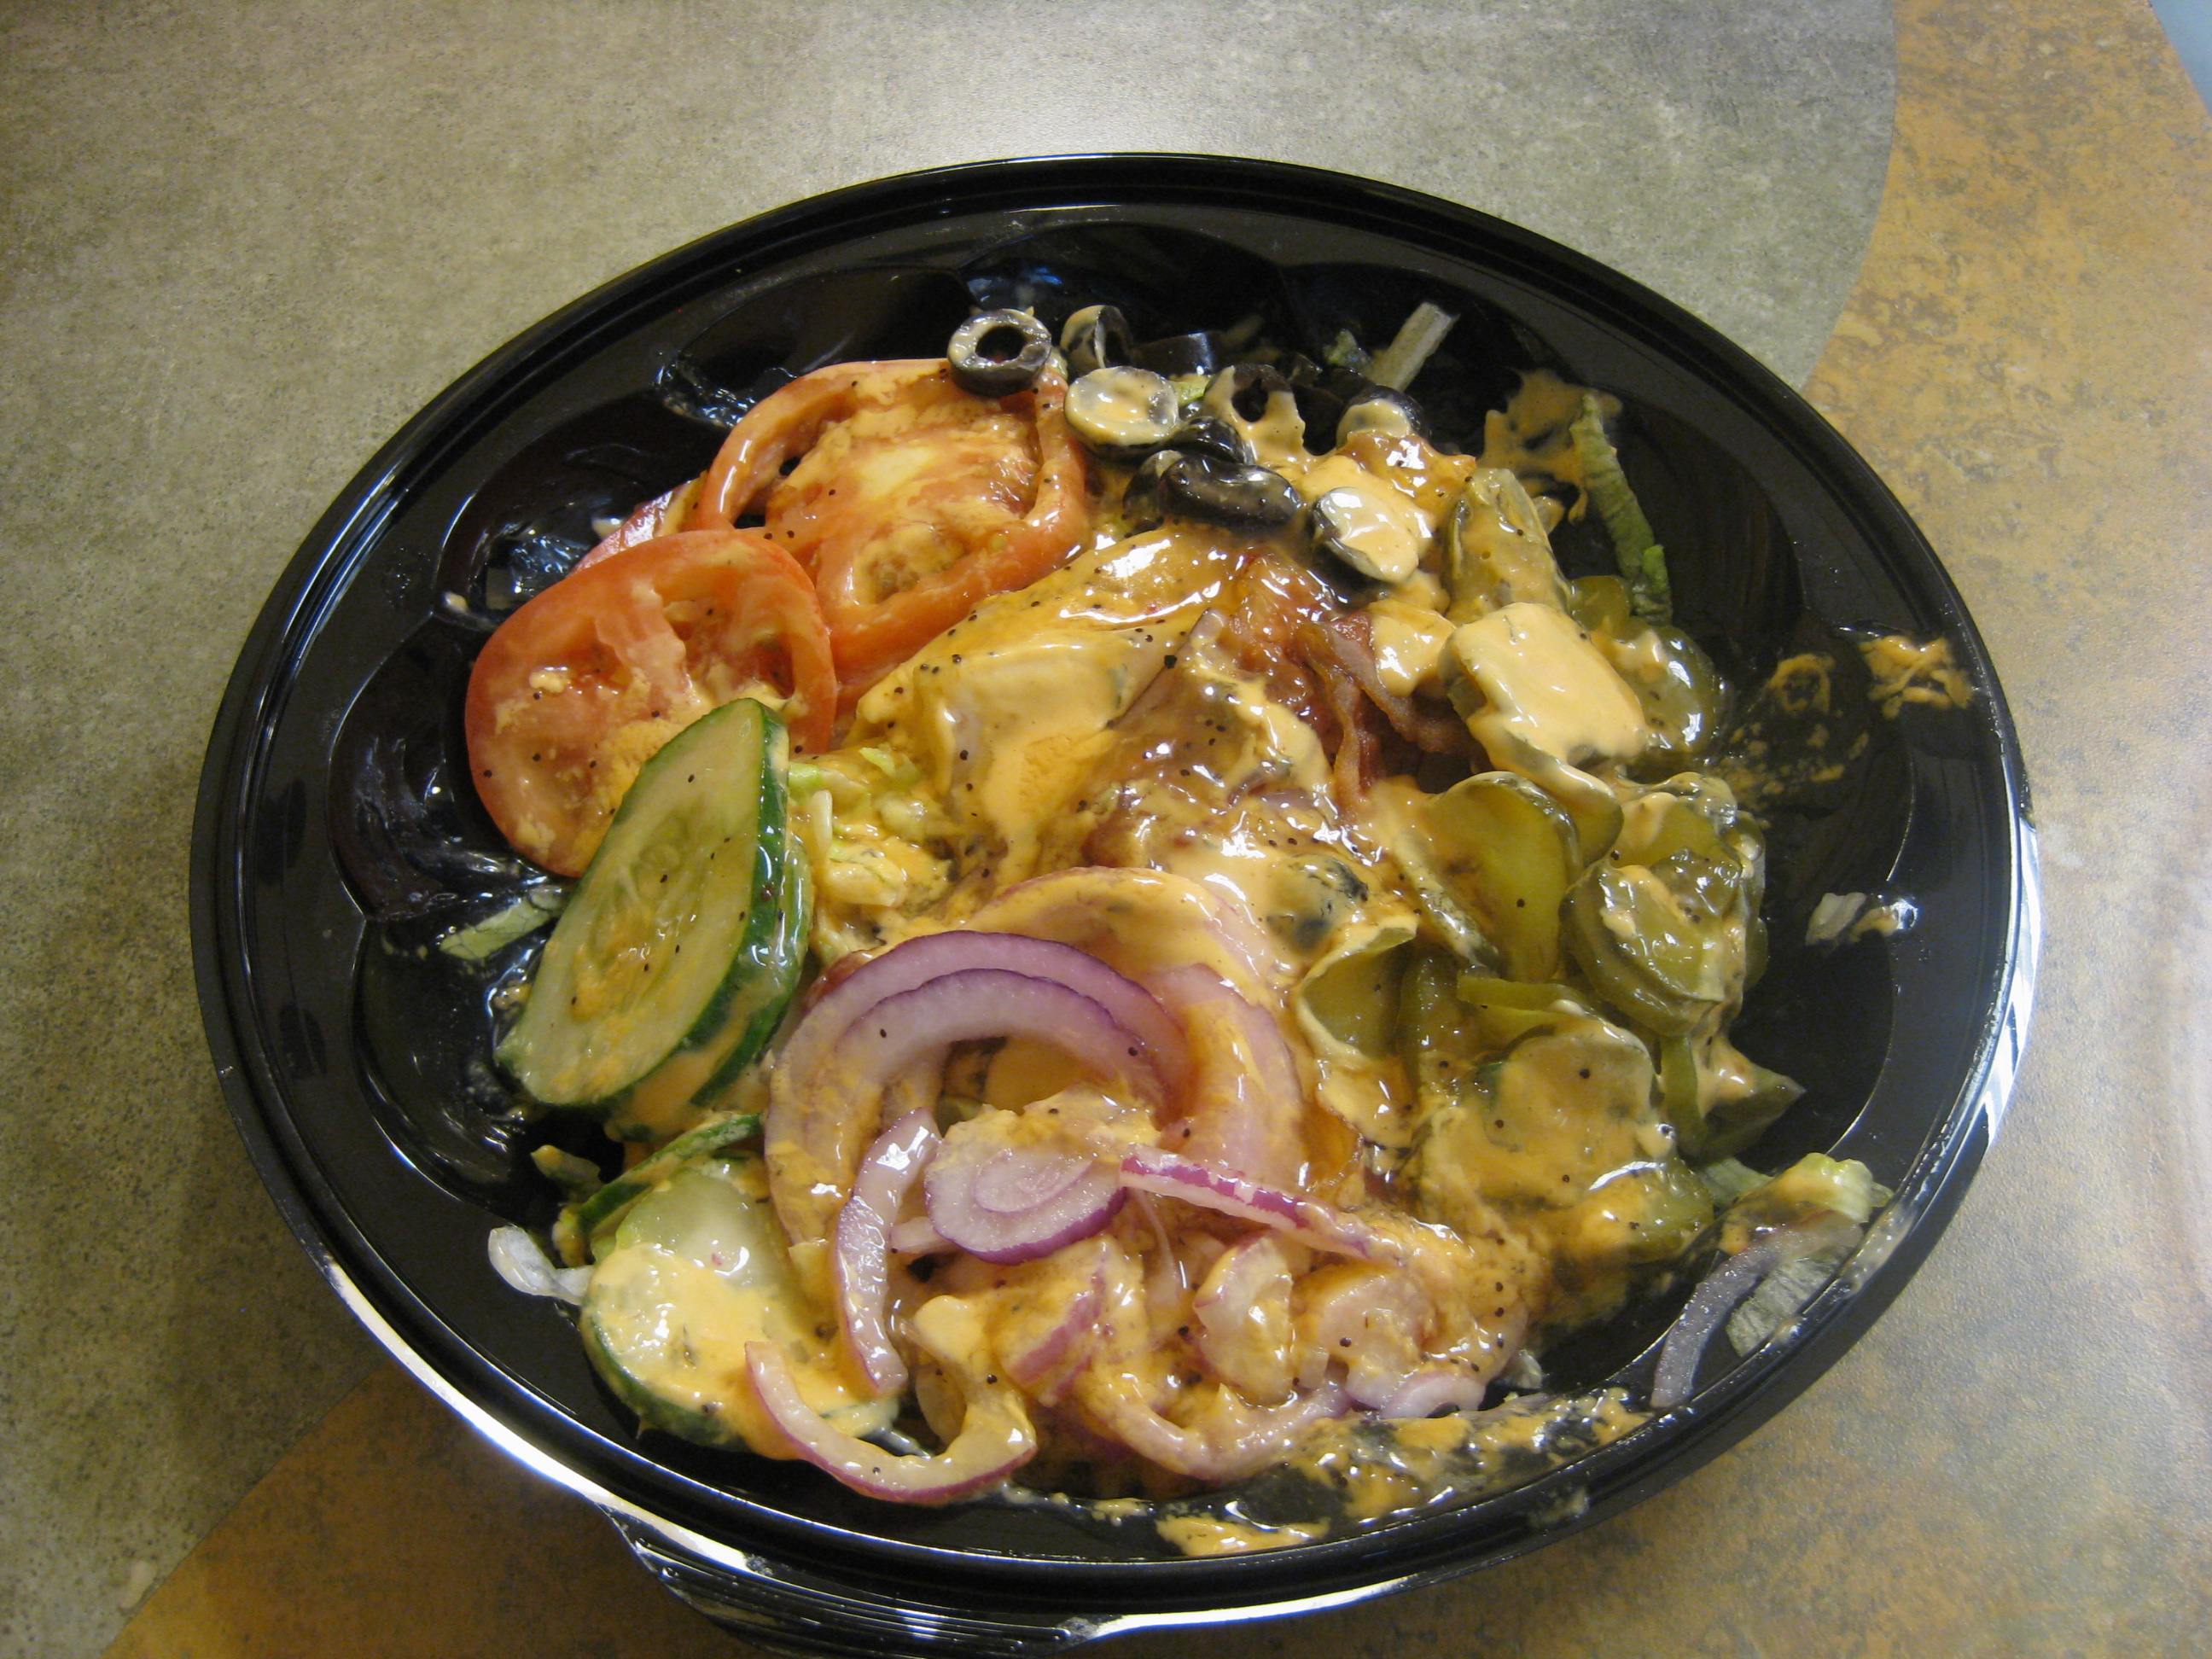salad: (402, 231, 1813, 1558)
